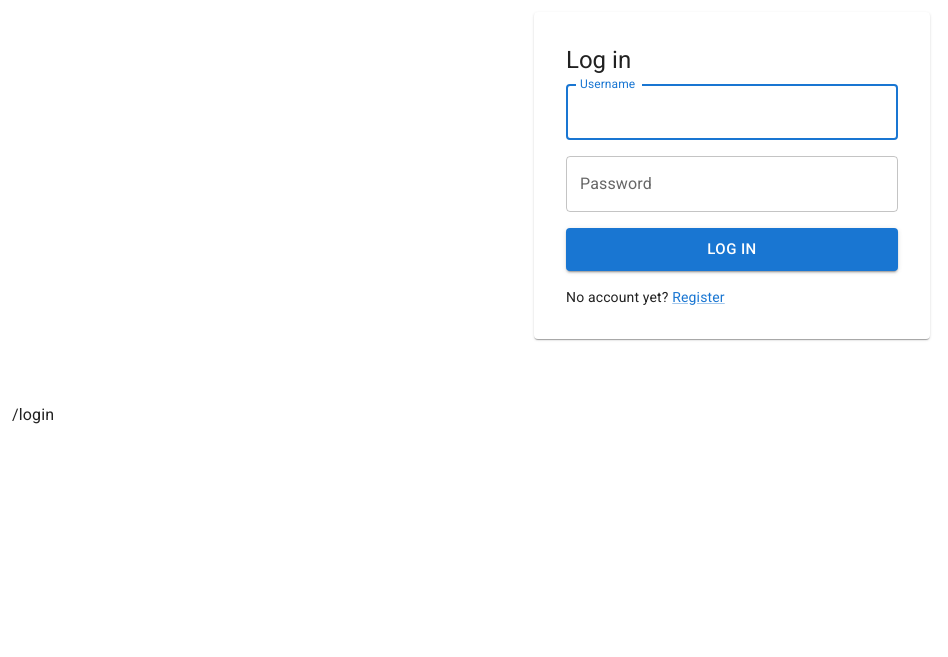
LoginPage › links to the register page
Expected: the heading "Log in" is shown, [566,46,631,74]
Click the link "Register" at coordinates (698, 297), box [672,289,725,305]
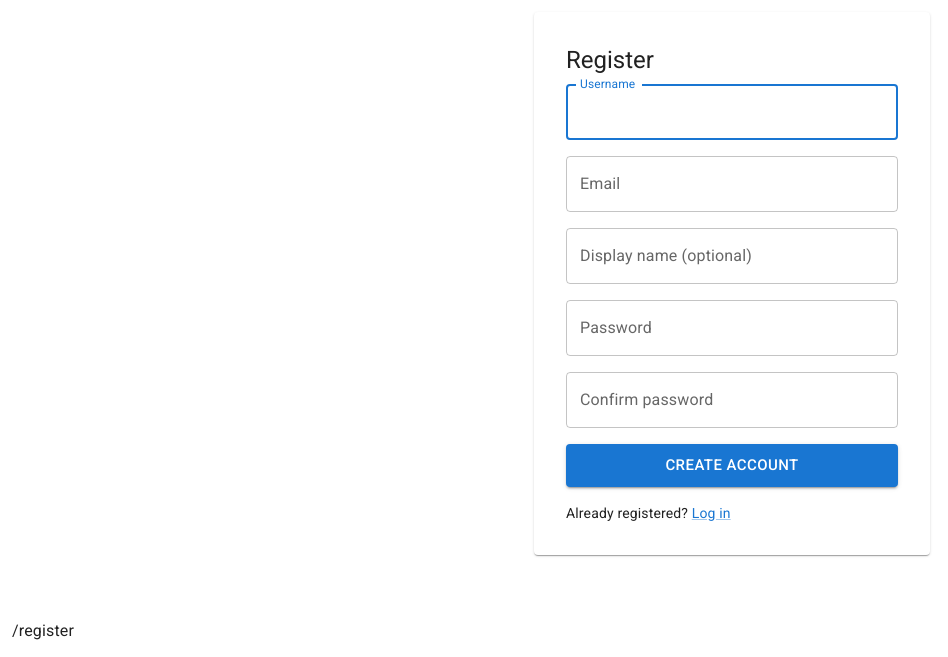
Expected: the heading "Register" is shown, [566,46,654,74]
